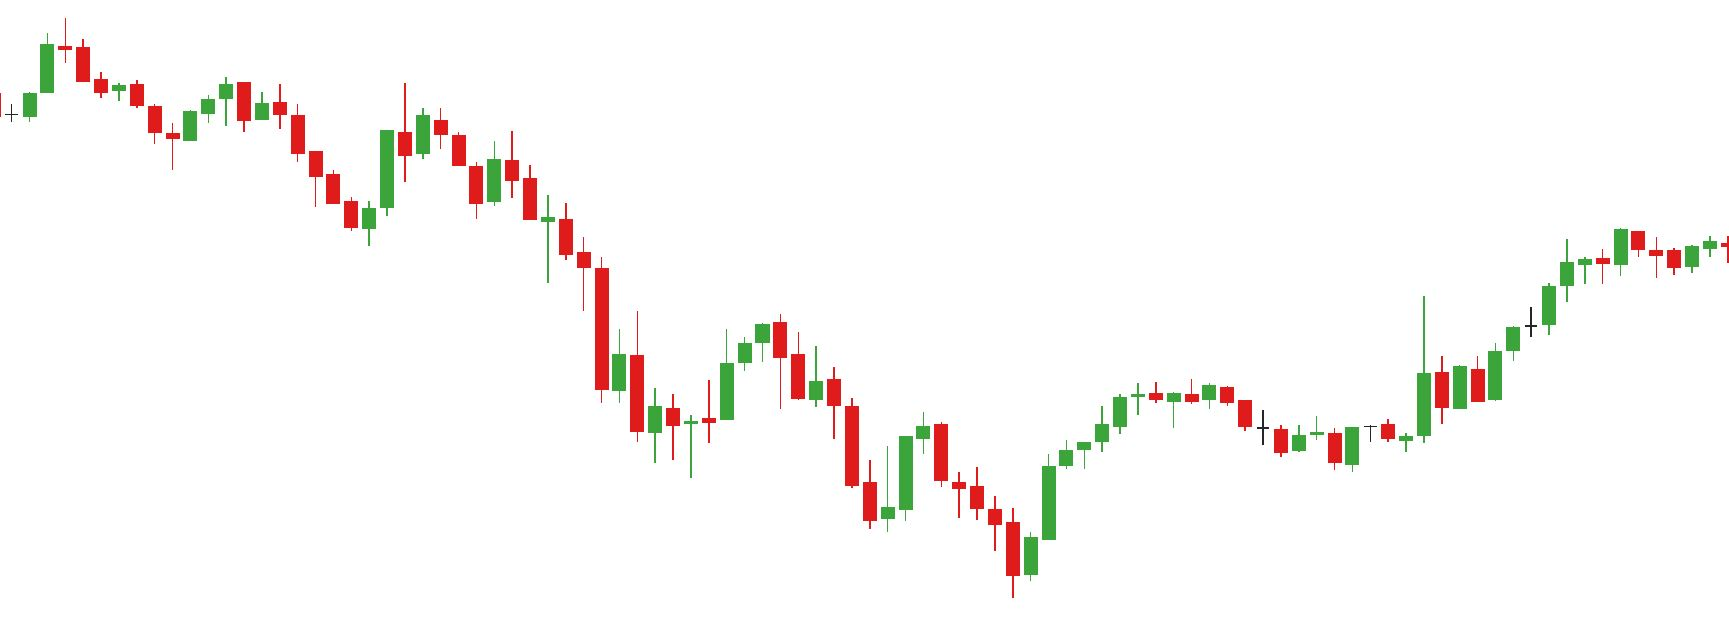buy: (861, 448, 1059, 601)
